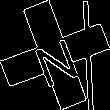N_N: (27, 24, 83, 86)
